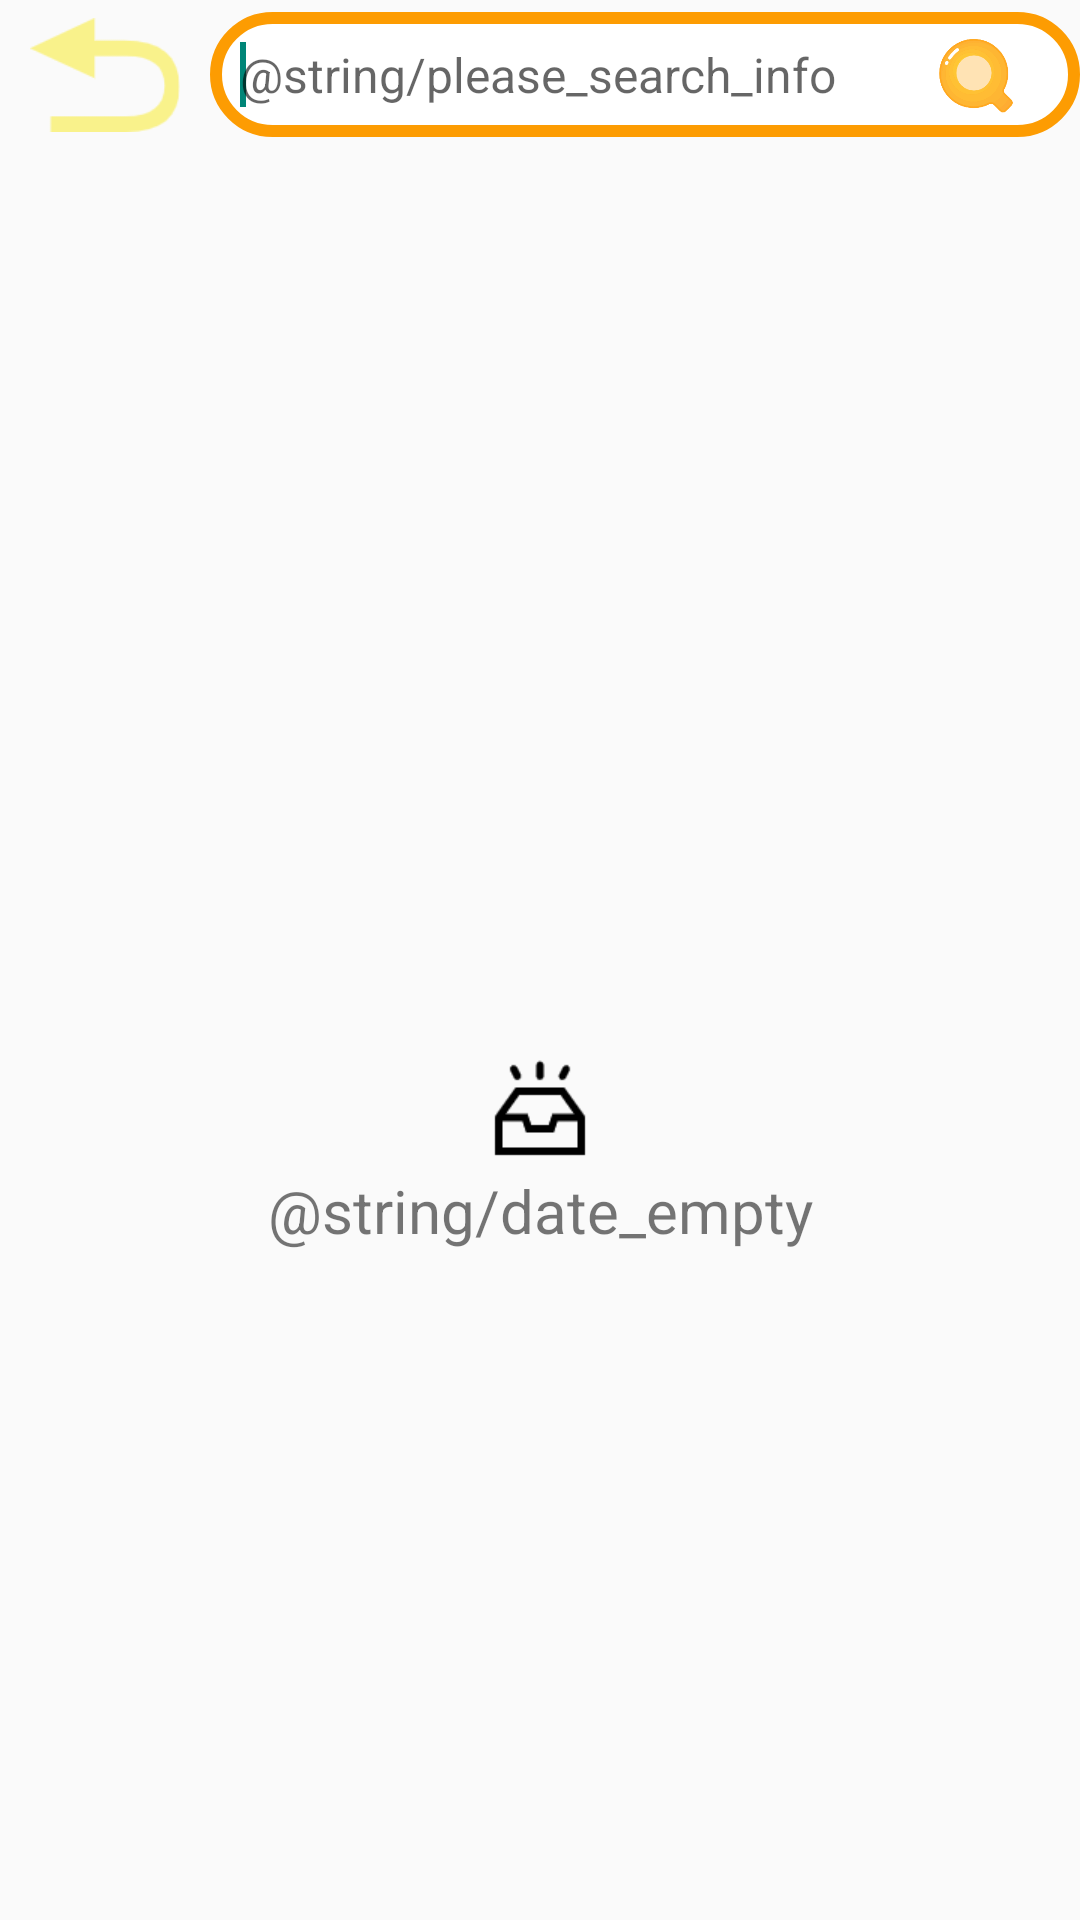

Named icons in this screenshot (1080×1920) and their bounding boxes, (x1, y1, x2, y2):
returnicon: (30, 18, 180, 132)
sousuo: (939, 39, 1013, 113)
